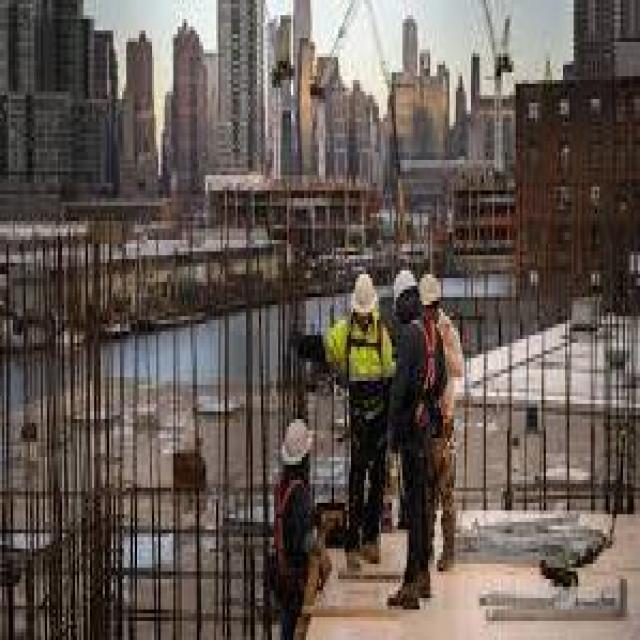reflective_jacket: (323, 308, 398, 441), (398, 312, 464, 457), (265, 472, 325, 597)
safety_helmet: (274, 411, 317, 476), (346, 263, 381, 324), (415, 266, 447, 316), (389, 259, 421, 308)
